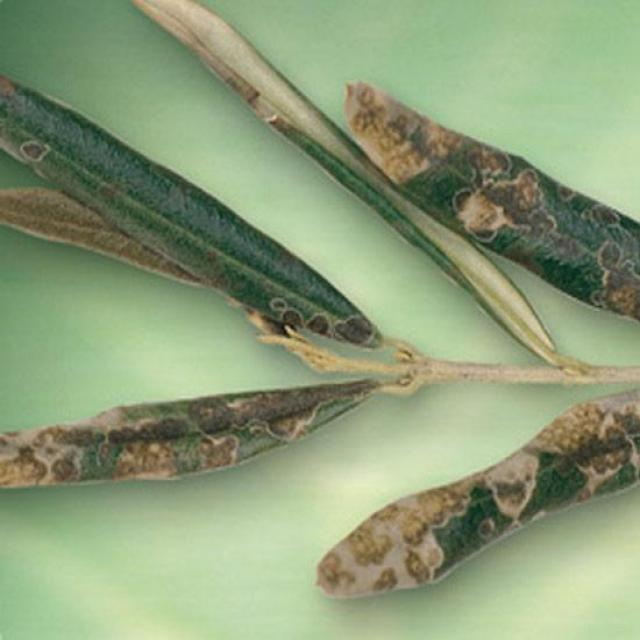Peacock Eye: (0, 74, 382, 346), (344, 83, 639, 320), (318, 389, 639, 598), (0, 380, 378, 486)
